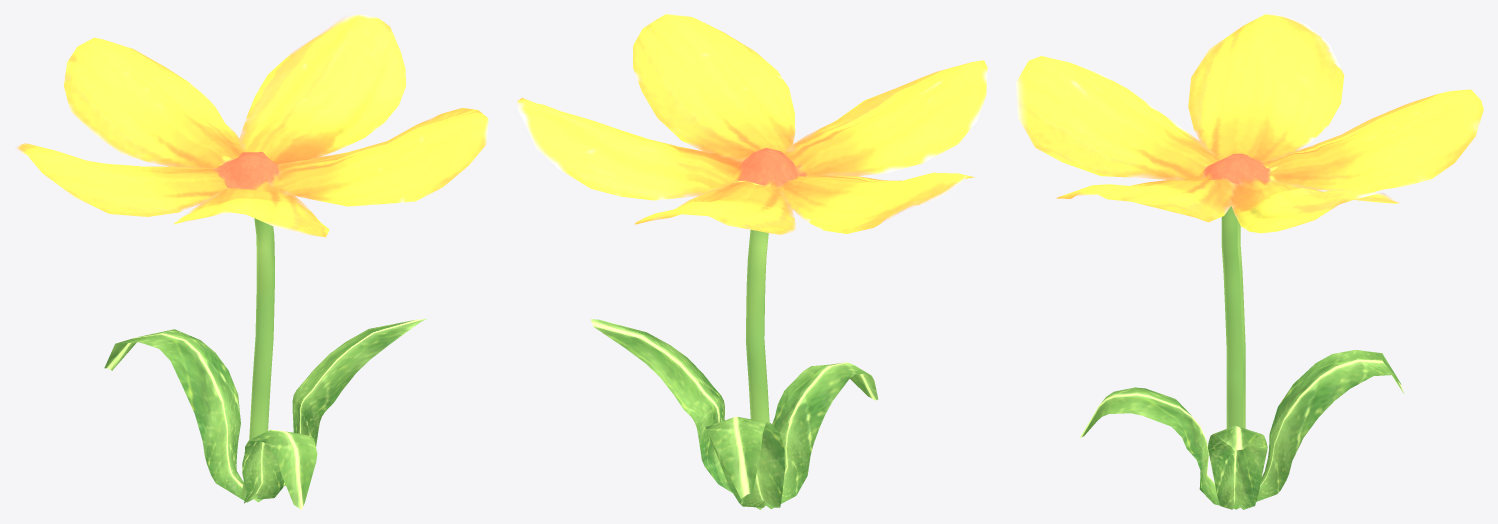
File: SM-Plants-01.FBX
The picture shows the model from 3 angles, left to right: view 1: azimuth 30°, elevation 25°; view 2: azimuth 150°, elevation 25°; view 3: azimuth 270°, elevation 25°; orthographic projection. The views are drawn at different scales.
Parts seen in each view (by area): view 1: SM-Plants-01; view 2: SM-Plants-01; view 3: SM-Plants-01.
Boxes of the visible parts, <box> form: SM-Plants-01: <box>14,14,488,509</box>; SM-Plants-01: <box>517,14,987,509</box>; SM-Plants-01: <box>1016,14,1483,509</box>.
Size of the model in its own units: 70.14 by 70.5 by 66.62.
Materials: 1 (1 with a texture image).
